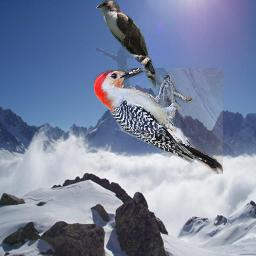Cuckoo: (96, 0, 163, 89)
Woodpecker: (94, 68, 223, 174)
